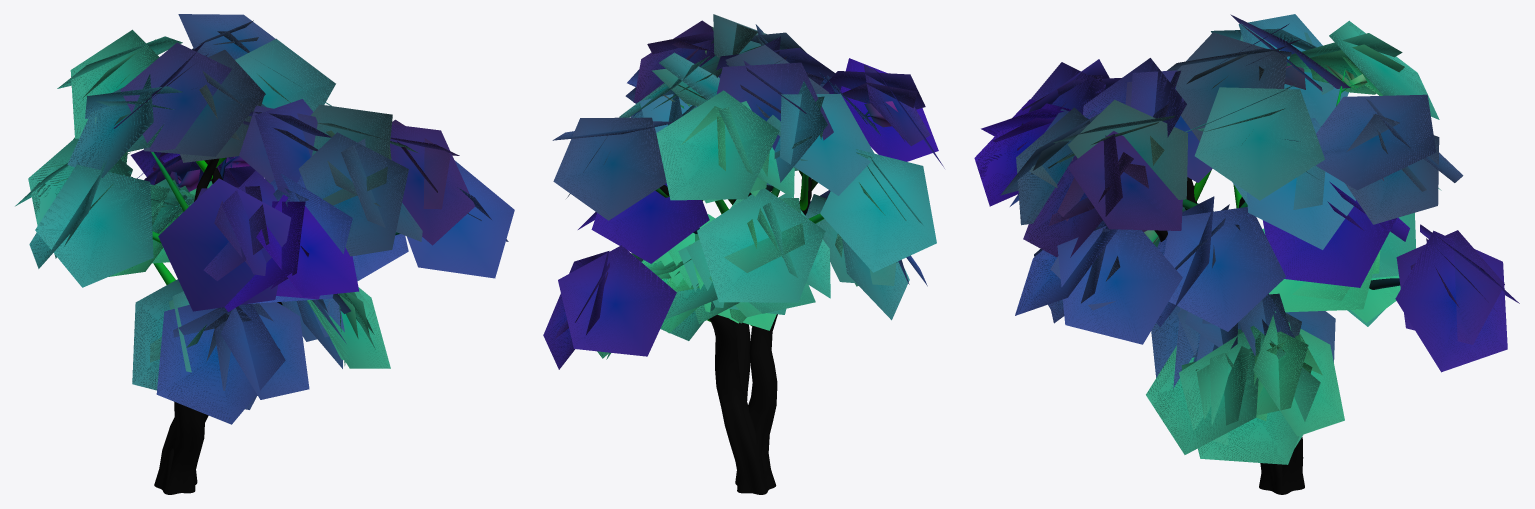
Rendered from arbol4.fbx.
3 renders of one model, left to right at view 1: azimuth 30°, elevation 25°; view 2: azimuth 150°, elevation 25°; view 3: azimuth 270°, elevation 25°, orthographic. The views are drawn at different scales.
Visible parts, largest first — view 1: Tree_2, Tree_0, Tree_1; view 2: Tree_2, Tree_0; view 3: Tree_2, Tree_0.
Part boxes in pixels (left/top/right/bottom): Tree_2: left=15, top=14, right=514, bottom=424; Tree_0: left=151, top=152, right=400, bottom=494; Tree_1: left=153, top=156, right=283, bottom=305; Tree_2: left=543, top=14, right=944, bottom=369; Tree_0: left=655, top=111, right=870, bottom=494; Tree_2: left=974, top=14, right=1519, bottom=464; Tree_0: left=1154, top=69, right=1400, bottom=494.
Size of the model in its own units: 291 by 305 by 325.
